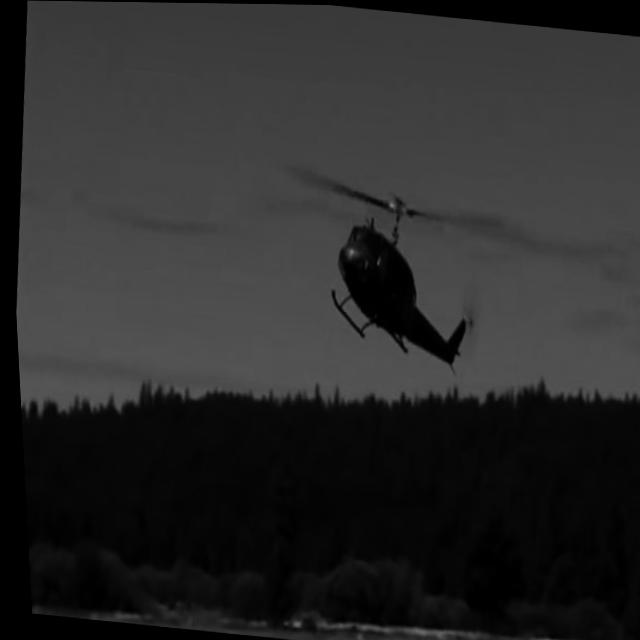helikopter: (301, 181, 512, 396)
